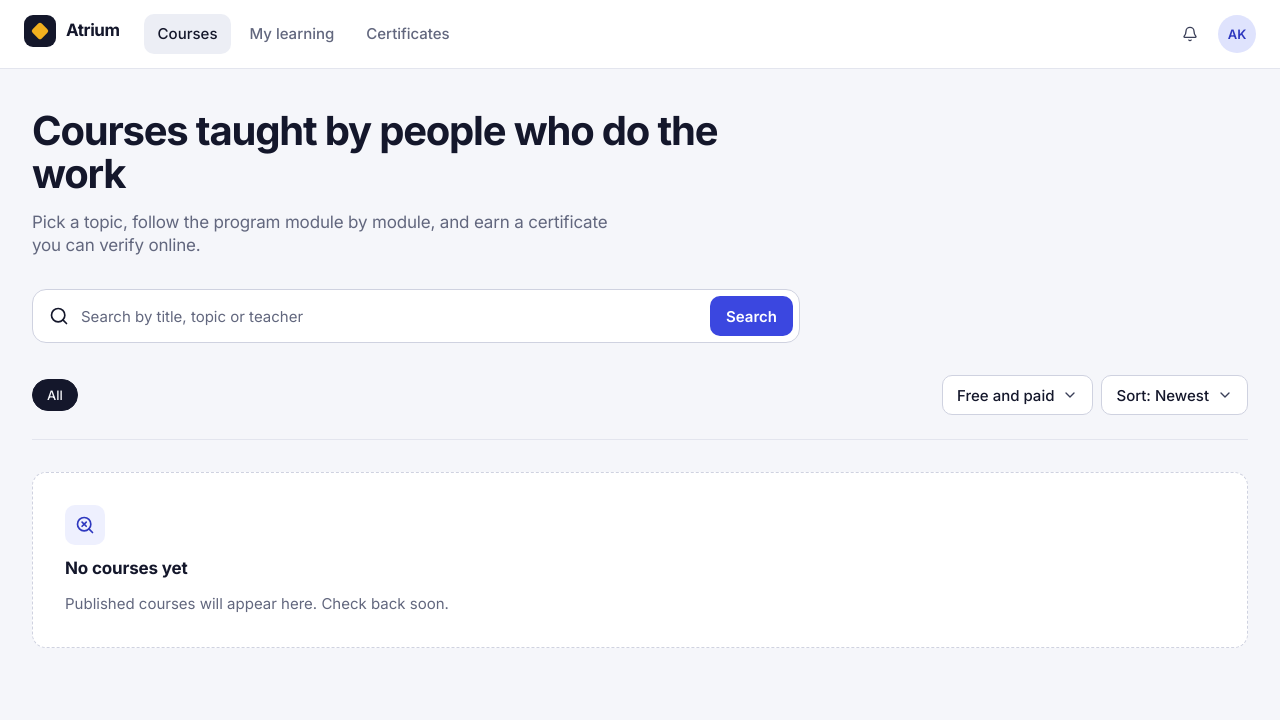
Test: notification bell › explains an empty list
This screenshot has width=1280, height=720.
Click the button named "Notifications": (1190, 34) x1=1170 y1=14 x2=1210 y2=54
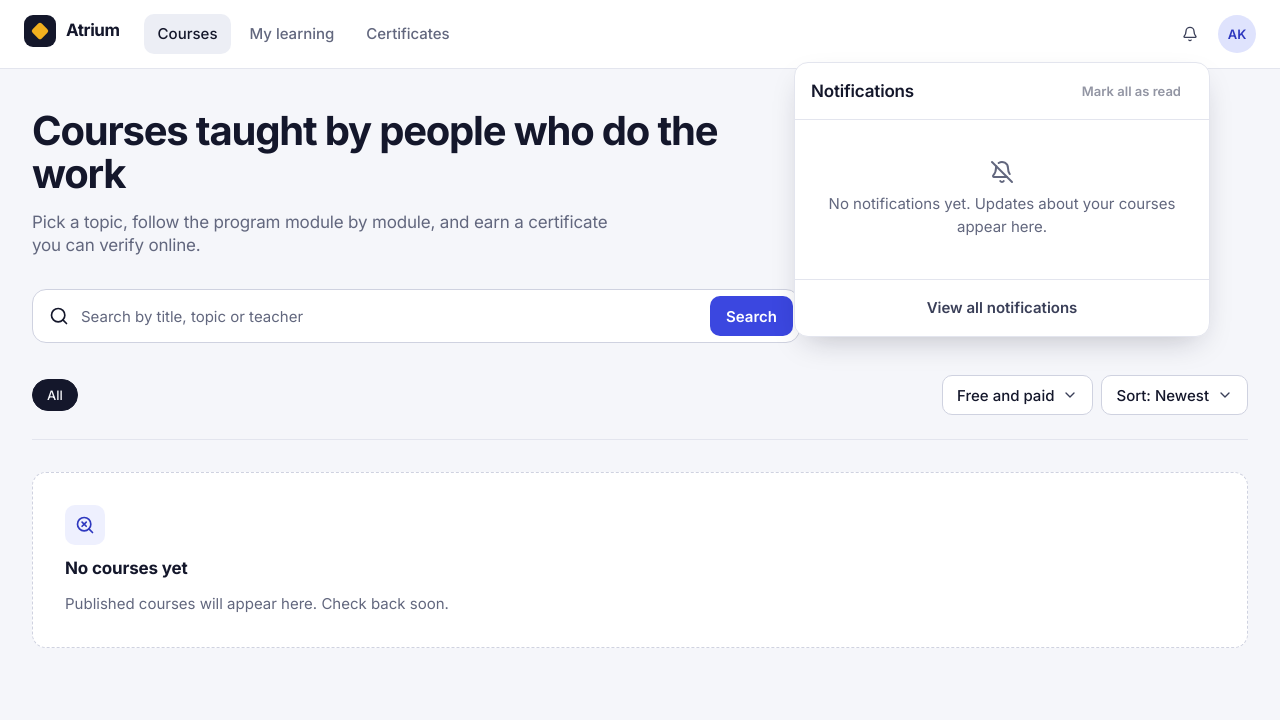
Check: the text "No notifications yet" is shown, box x1=829 y1=194 x2=1175 y2=236
